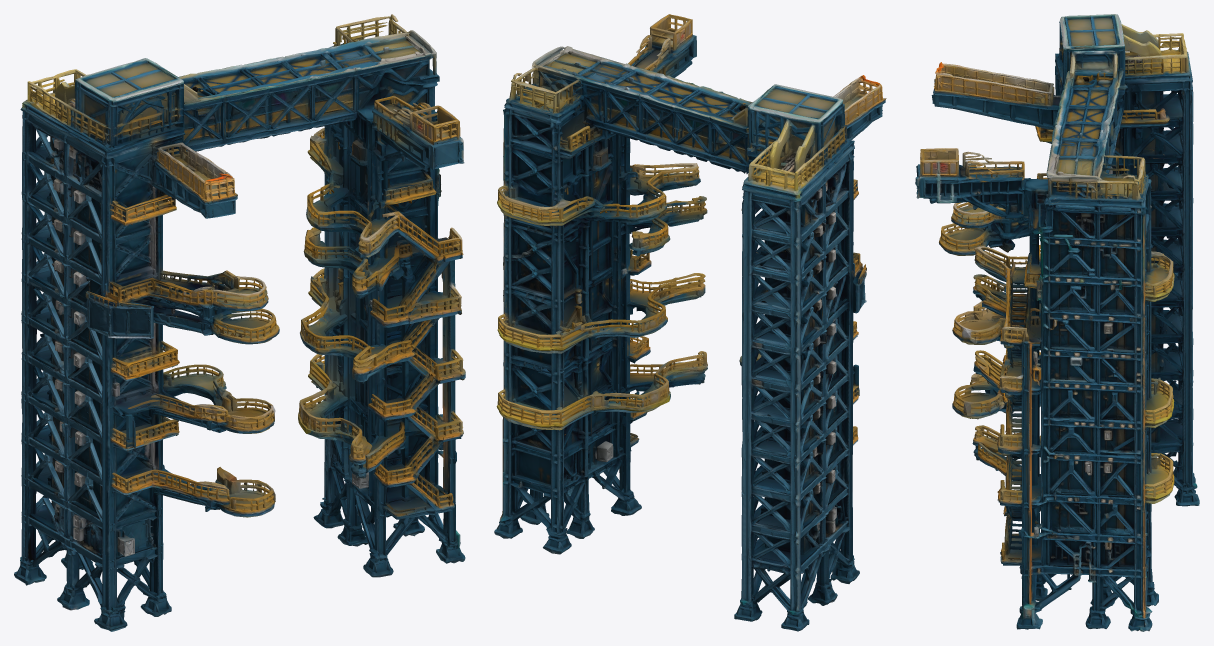
The picture shows the model from 3 angles, left to right: view 1: azimuth 30°, elevation 25°; view 2: azimuth 150°, elevation 25°; view 3: azimuth 270°, elevation 25°; orthographic projection. The views are drawn at different scales.
Parts seen in each view (by area): view 1: world; view 2: world; view 3: world.
Part boxes in pixels (x1=…): world: x1=14, y1=14, x2=465, y2=631; world: x1=494, y1=14, x2=886, y2=631; world: x1=915, y1=14, x2=1199, y2=631.
Bounding box in the file's own units: 0.717 × 0.9997 × 0.5443.
Materials: 1 (1 with a texture image).
